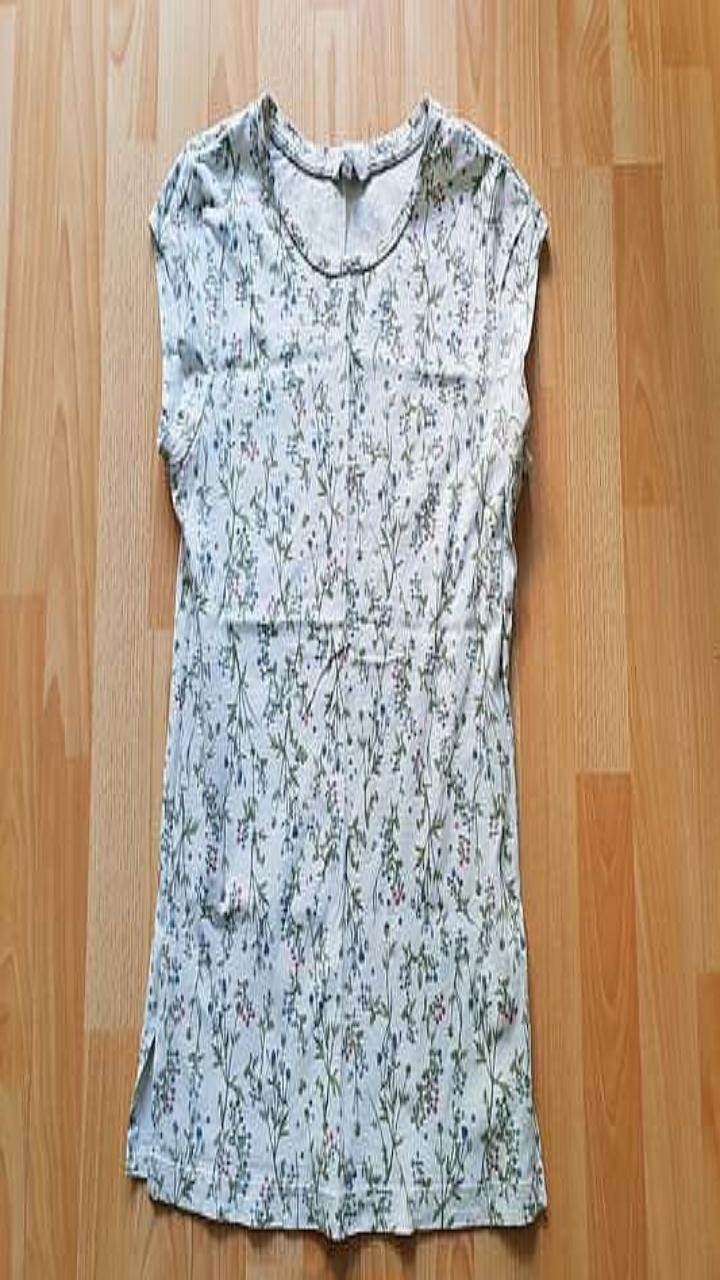T-Shirt: (126, 92, 547, 1237)
